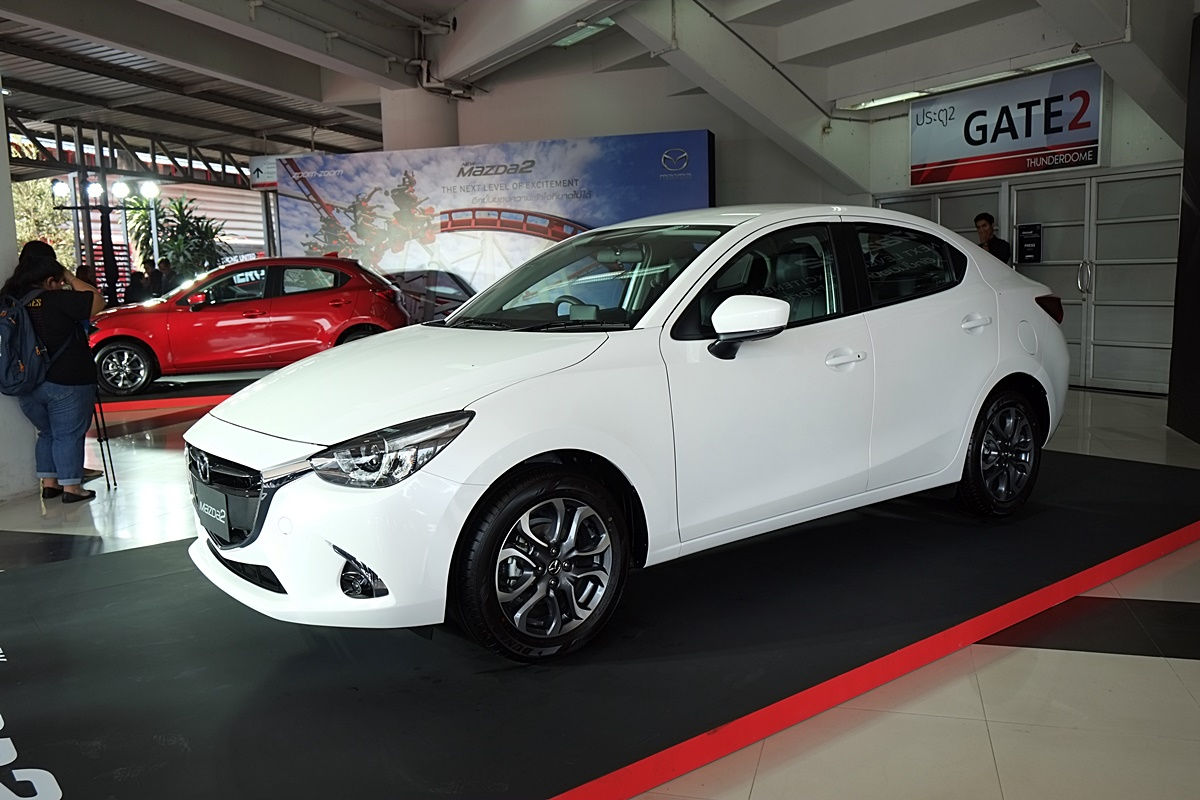sedan: (176, 195, 1074, 661)
